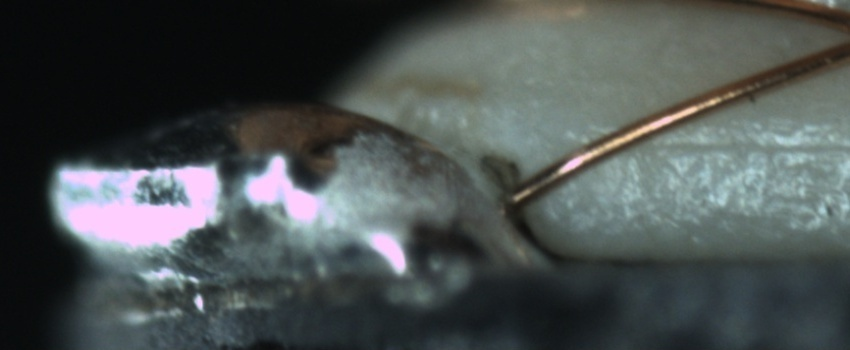CL: (832, 11, 850, 61)
DL: (632, 116, 850, 174)
